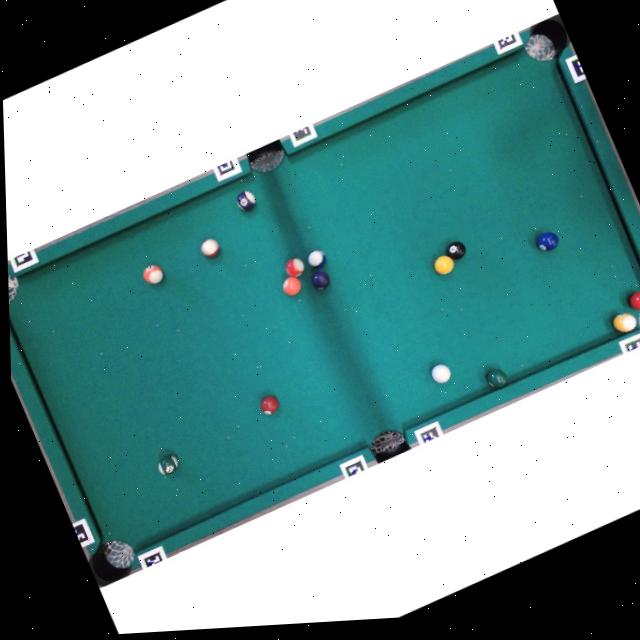cue ball: (429, 361, 454, 386)
other: (611, 308, 640, 337), (483, 363, 511, 392), (233, 186, 260, 215), (534, 228, 561, 255), (140, 260, 166, 288), (279, 272, 305, 299), (155, 452, 182, 477), (431, 252, 457, 277), (198, 235, 223, 261), (308, 267, 333, 293), (443, 238, 469, 263), (257, 392, 282, 417), (283, 255, 307, 279), (305, 247, 329, 271), (626, 285, 640, 315)
